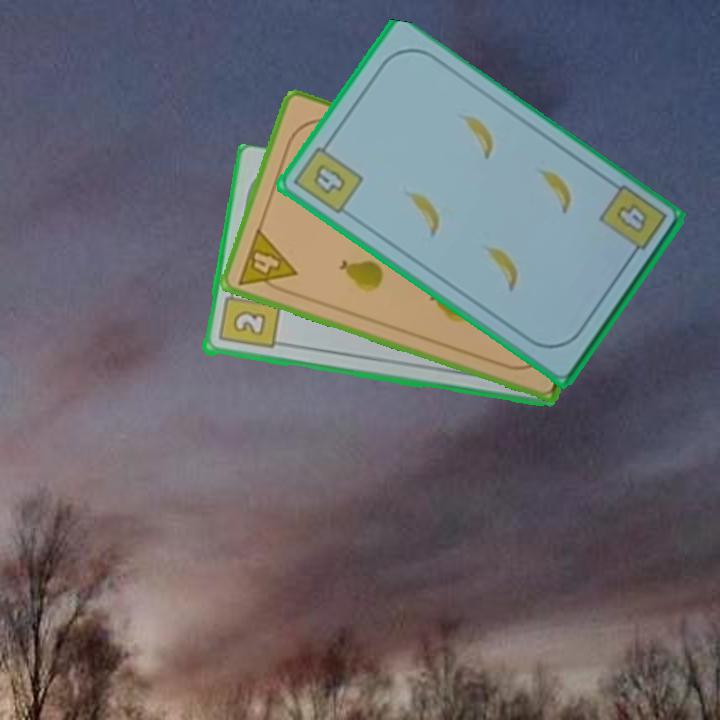2b: (215, 284, 282, 352)
4b: (290, 136, 366, 218), (595, 181, 670, 264)
4p: (234, 224, 300, 298)
